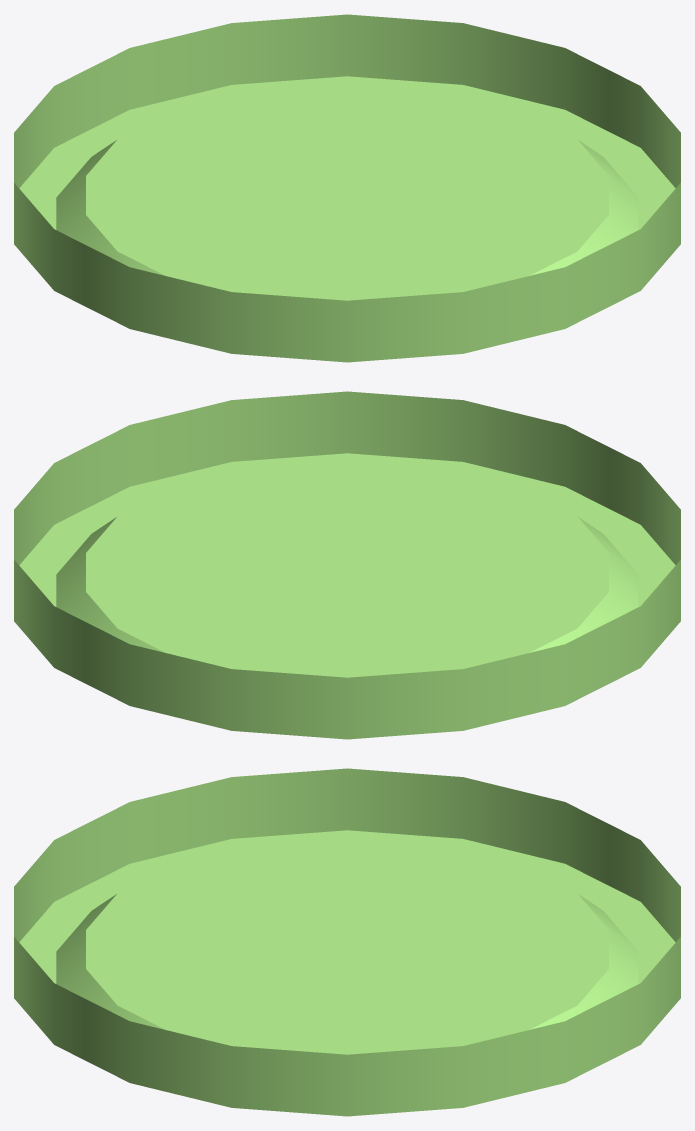
Rendered from Ev_company_exit_Light001.fbx.
The picture shows the model from 3 angles, top to bottom: view 1: azimuth 30°, elevation 25°; view 2: azimuth 150°, elevation 25°; view 3: azimuth 270°, elevation 25°; orthographic projection.
Visible parts, largest first — view 1: Ev_company_exit_Light001; view 2: Ev_company_exit_Light001; view 3: Ev_company_exit_Light001.
Boxes of the visible parts, x1,y1,x2,y2 form: Ev_company_exit_Light001: (14,14,680,362); Ev_company_exit_Light001: (14,391,680,739); Ev_company_exit_Light001: (14,768,680,1116).
Bounding box in the file's own units: 47.74 × 4.81 × 47.02.
